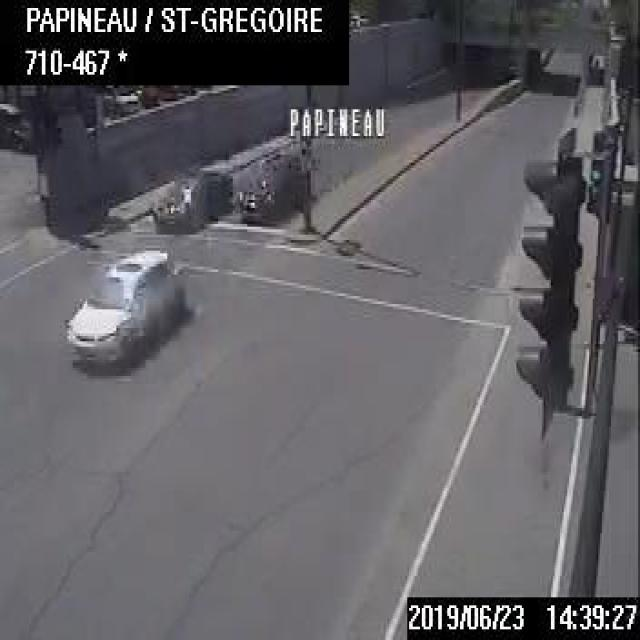vehicle: (64, 246, 174, 366), (234, 152, 307, 222), (152, 165, 232, 227), (0, 102, 29, 150)
